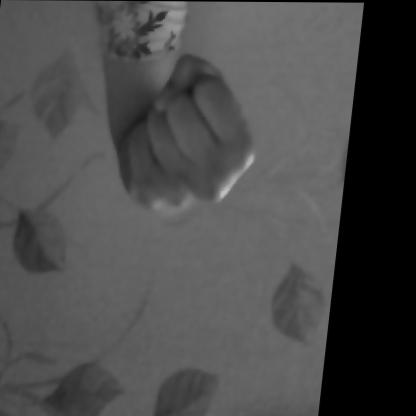fist: (83, 38, 291, 239)
